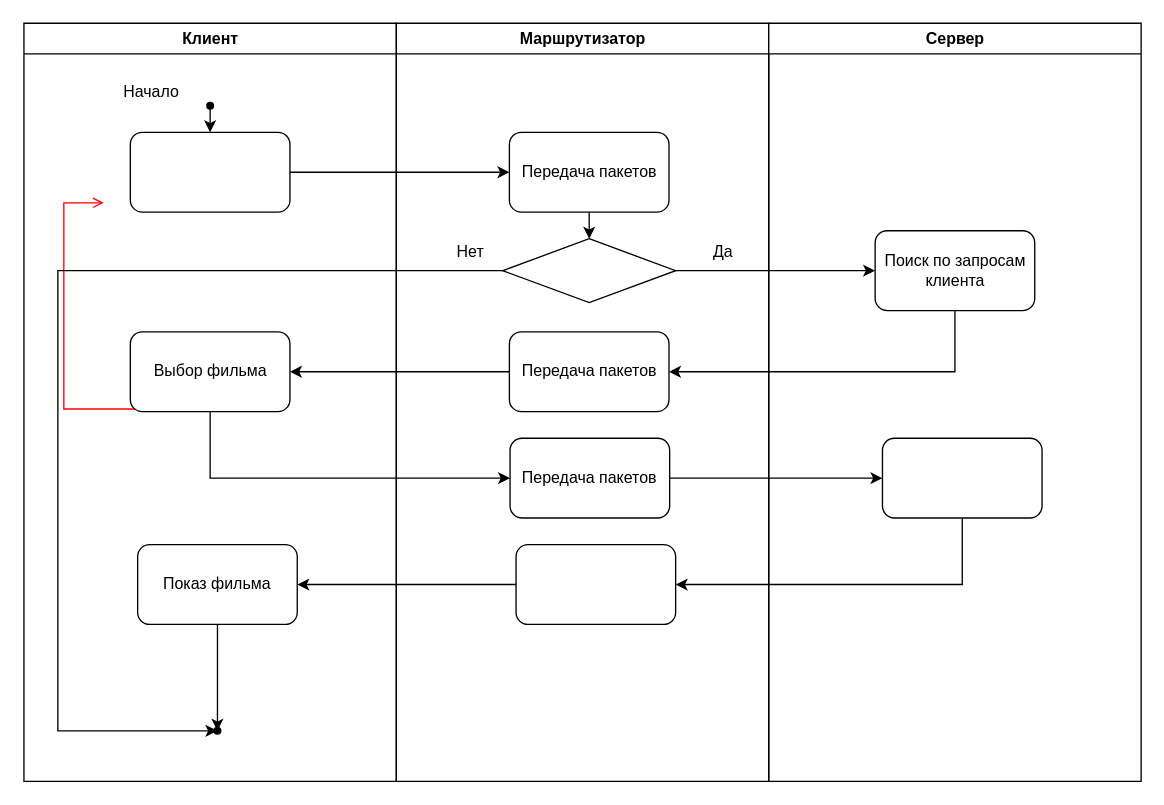
The diagram is 1164 pixels wide and 805 high, and some of its shapes have lost their labels. The centre of each missing label's shape, as x and y in pixels:
"Возможно подключение?" belongs at (x=588, y=270).
"Выбор фильма на сайте кинопоиска" belongs at (x=209, y=171).
"Конец" belongs at (x=217, y=730).
"Формирование клиентского запроса" belongs at (x=961, y=477).
"Формирование постоянного TCP подключения" belongs at (x=595, y=583).
